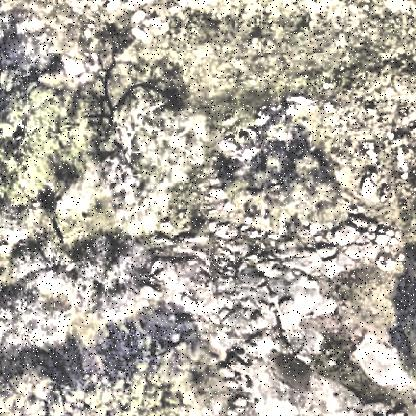tree-top: (94, 96, 216, 231), (2, 240, 162, 341), (232, 143, 366, 241), (1, 87, 88, 217), (119, 325, 239, 415), (1, 347, 125, 416), (2, 9, 62, 63), (391, 308, 416, 390)
